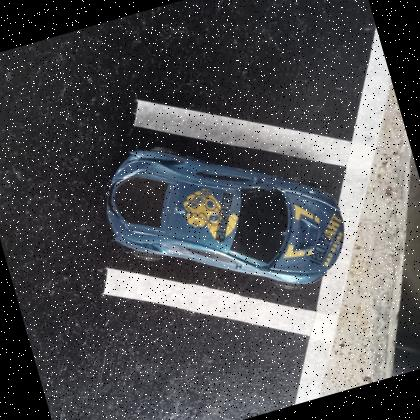Car: (104, 146, 344, 285)
